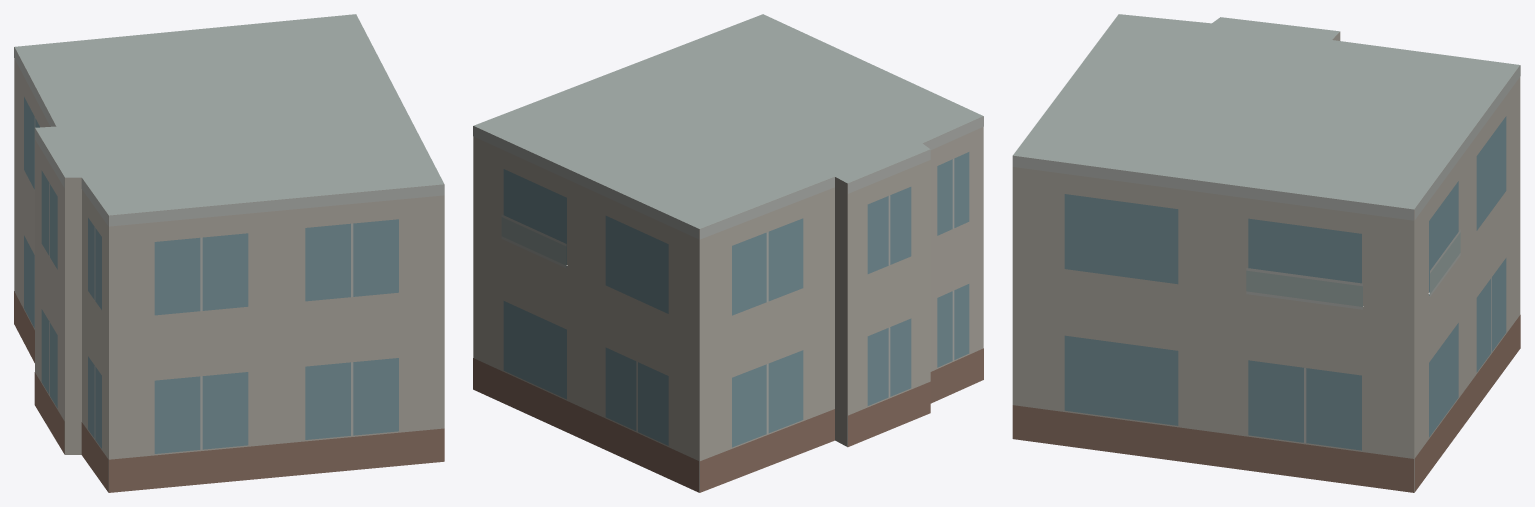
The model's file is survey-upis-32990095.glb.
3 renders of one model, left to right at view 1: azimuth 30°, elevation 25°; view 2: azimuth 150°, elevation 25°; view 3: azimuth 270°, elevation 25°, orthographic. The views are drawn at different scales.
Parts seen in each view (by area): view 1: survey-upis-32990095.tmp; view 2: survey-upis-32990095.tmp; view 3: survey-upis-32990095.tmp.
Boxes of the visible parts, x1,y1,x2,y2 form: survey-upis-32990095.tmp: (14,14,444,492); survey-upis-32990095.tmp: (473,14,983,492); survey-upis-32990095.tmp: (1012,14,1520,492).
Size of the model in its own units: 9.03 by 6.1 by 9.92.
